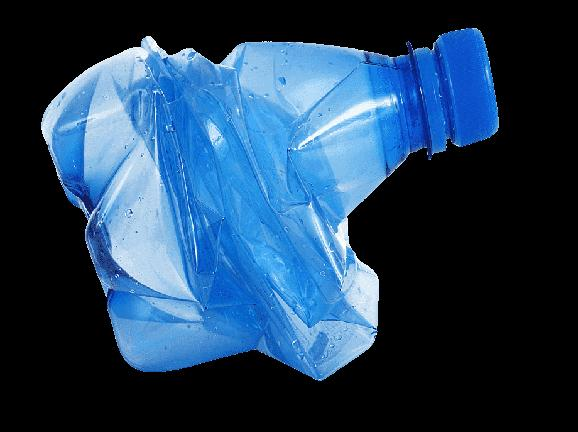Plastik: (38, 22, 513, 384)
